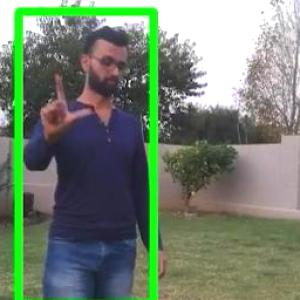land_hand: (35, 67, 95, 137)
